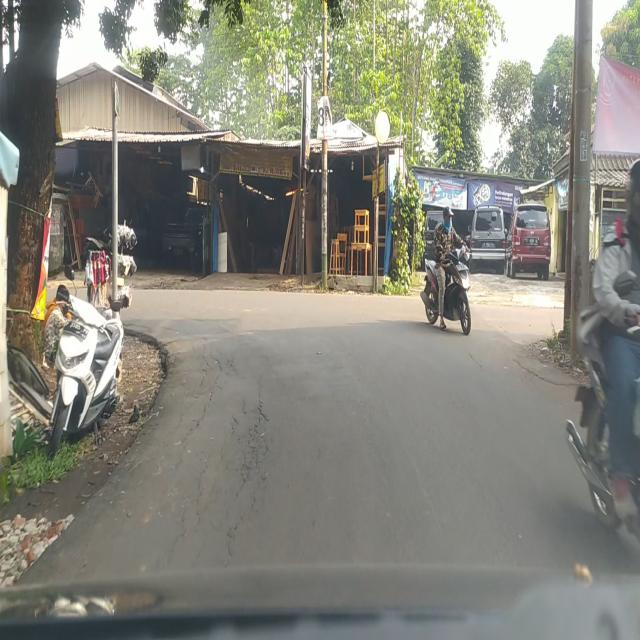Drain Hole: (228, 377, 268, 546), (183, 337, 235, 436)
